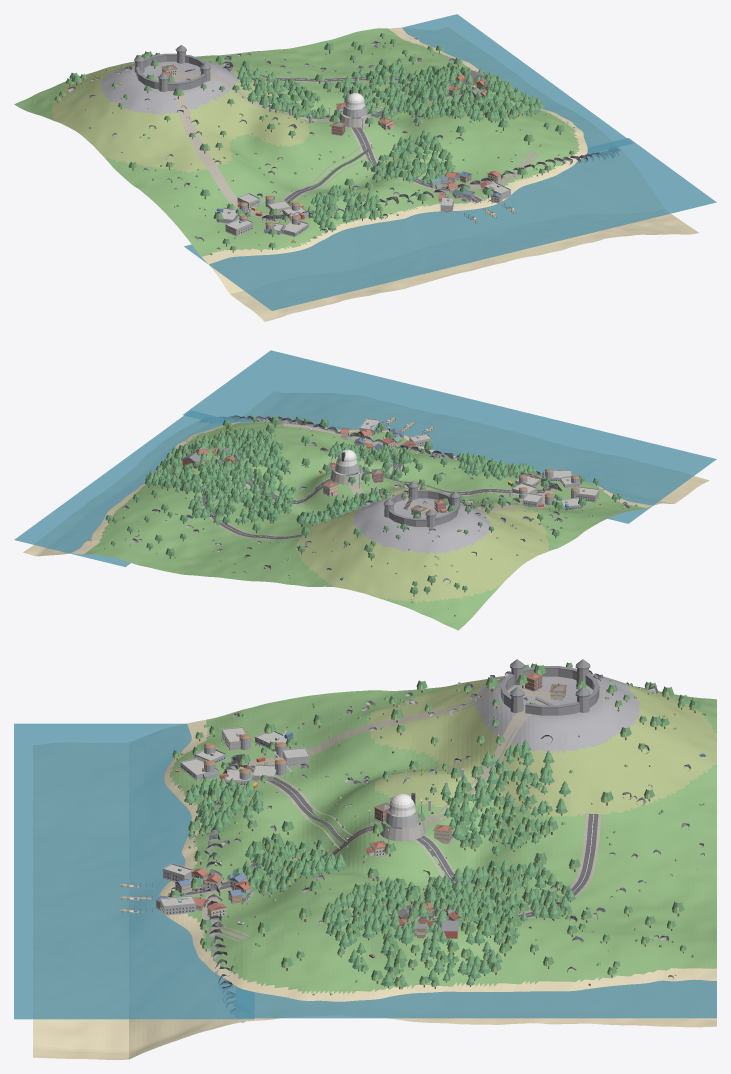
Rendered from battle_royale_map.glb.
The picture shows the model from 3 angles, top to bottom: view 1: azimuth 30°, elevation 25°; view 2: azimuth 150°, elevation 25°; view 3: azimuth 270°, elevation 25°; orthographic projection. The views are drawn at different scales.
Visible parts, largest first — view 1: Terrain_0, Terrain_3, Water_0, Vegetation_2, Terrain_2, Terrain_1, Vegetation_1, Roads_2, Vegetation_3, Rocks_0, POI_Industrial_0, Roads_0 (+5 smaller); view 2: Water_0, Terrain_3, Terrain_0, Terrain_2, Vegetation_2, Vegetation_1, Terrain_1, Rocks_0, Roads_2, Roads_0, POI_Industrial_0, POI_Fortress_0 (+4 smaller); view 3: Terrain_3, Terrain_0, Water_0, Vegetation_2, Terrain_2, Vegetation_3, Terrain_1, Vegetation_1, Roads_2, Roads_0, Rocks_0, POI_Industrial_0 (+8 smaller).
Part boxes in pixels (bbox=[...]): Terrain_0: bbox=[202, 27, 698, 321]; Terrain_3: bbox=[14, 28, 579, 256]; Water_0: bbox=[184, 14, 716, 310]; Vegetation_2: bbox=[34, 33, 574, 255]; Terrain_2: bbox=[50, 61, 309, 173]; Terrain_1: bbox=[99, 61, 238, 114]; Vegetation_1: bbox=[54, 34, 569, 249]; Roads_2: bbox=[171, 73, 538, 219]; Vegetation_3: bbox=[33, 34, 574, 254]; Rocks_0: bbox=[86, 55, 620, 249]; POI_Industrial_0: bbox=[215, 194, 309, 236]; Roads_0: bbox=[262, 75, 482, 215]; Water_0: bbox=[14, 350, 716, 566]; Terrain_3: bbox=[84, 422, 645, 630]; Terrain_0: bbox=[23, 392, 709, 556]; Terrain_2: bbox=[296, 485, 549, 602]; Vegetation_2: bbox=[105, 416, 637, 616]; Vegetation_1: bbox=[108, 419, 621, 594]; Terrain_1: bbox=[353, 498, 491, 554]; Rocks_0: bbox=[123, 415, 627, 575]; Roads_2: bbox=[200, 423, 554, 539]; Roads_0: bbox=[202, 457, 547, 539]; POI_Industrial_0: bbox=[509, 470, 599, 509]; POI_Fortress_0: bbox=[384, 488, 460, 527]; Terrain_3: bbox=[170, 682, 716, 993]; Terrain_0: bbox=[33, 720, 716, 1059]; Water_0: bbox=[14, 723, 716, 1019]; Vegetation_2: bbox=[169, 662, 706, 995]; Terrain_2: bbox=[366, 676, 716, 816]; Vegetation_3: bbox=[170, 665, 707, 994]; Terrain_1: bbox=[475, 673, 639, 753]; Vegetation_1: bbox=[184, 747, 575, 987]; Roads_2: bbox=[167, 687, 601, 941]; Roads_0: bbox=[168, 765, 598, 922]; Rocks_0: bbox=[177, 670, 701, 1022]; POI_Industrial_0: bbox=[179, 726, 309, 786].
Bounding box in the file's own units: 512 × 132 × 514.
